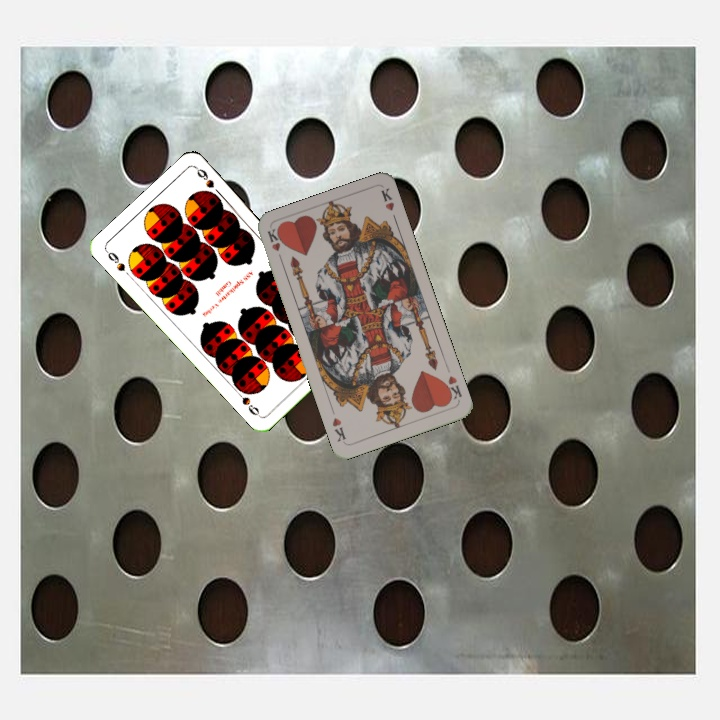HK: (263, 225, 286, 265), (440, 372, 464, 404)
S9: (102, 247, 128, 274)
